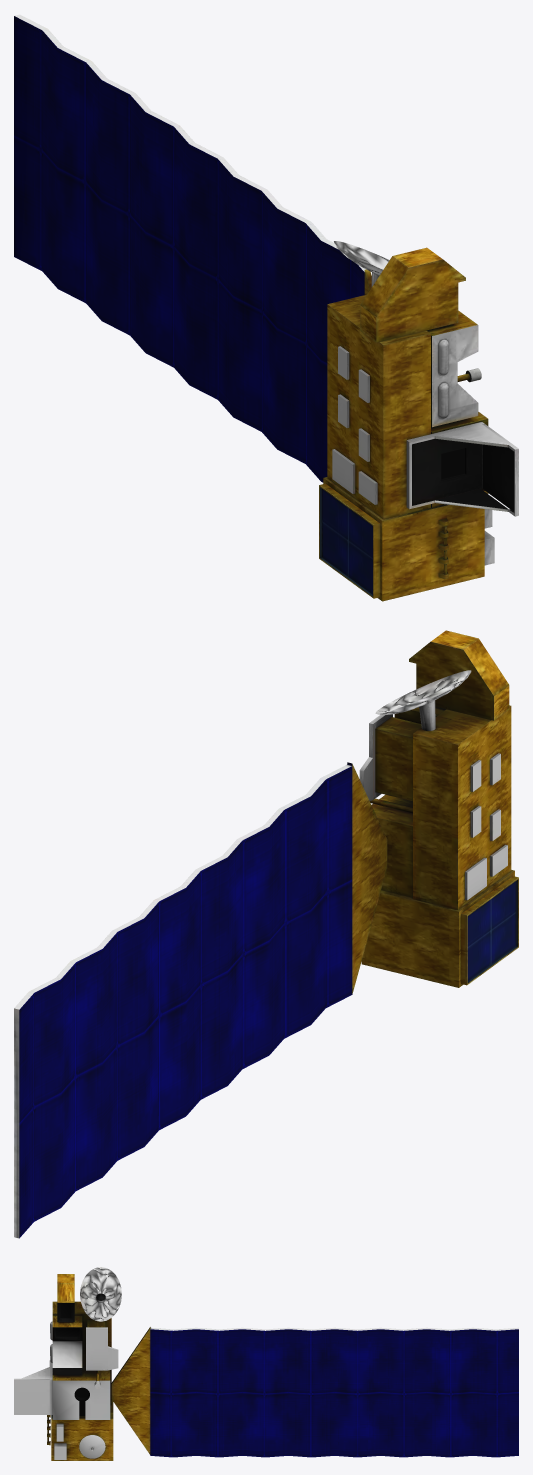
Rendered from aura.glb.
3 renders of one model, top to bottom at view 1: azimuth 30°, elevation 25°; view 2: azimuth 150°, elevation 25°; view 3: azimuth 270°, elevation 25°, orthographic. The views are drawn at different scales.
Parts seen in each view (by area): view 1: aura_uv.la; view 2: aura_uv.la; view 3: aura_uv.la.
Boxes of the visible parts, x1=… form: aura_uv.la: x1=14, y1=14, x2=518, y2=601; aura_uv.la: x1=14, y1=630, x2=518, y2=1238; aura_uv.la: x1=14, y1=1267, x2=518, y2=1460.
Size of the model in its own units: 8.98 by 18.99 by 50.82.
8 materials, 8 textured.
